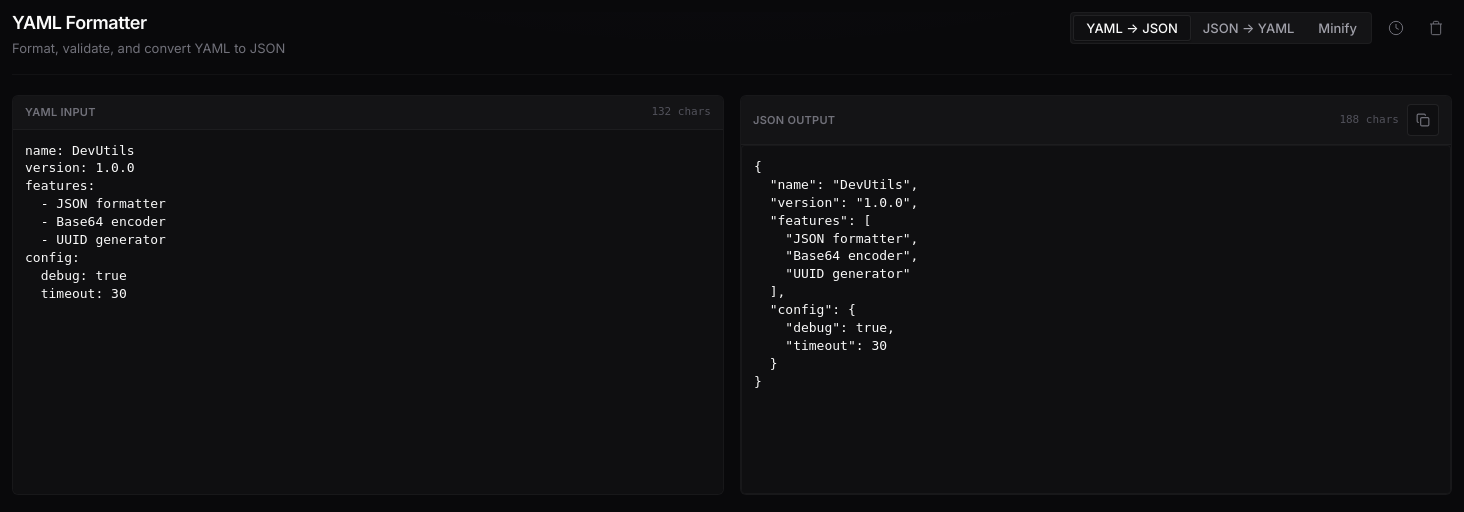
Scenario: YamlTool › should clear content when clear button clicked
// First input some content
Replace the text in the text box with class "editor-textarea" with "test: value" at (368, 312), box top-left (13, 130), bottom-right (723, 494)
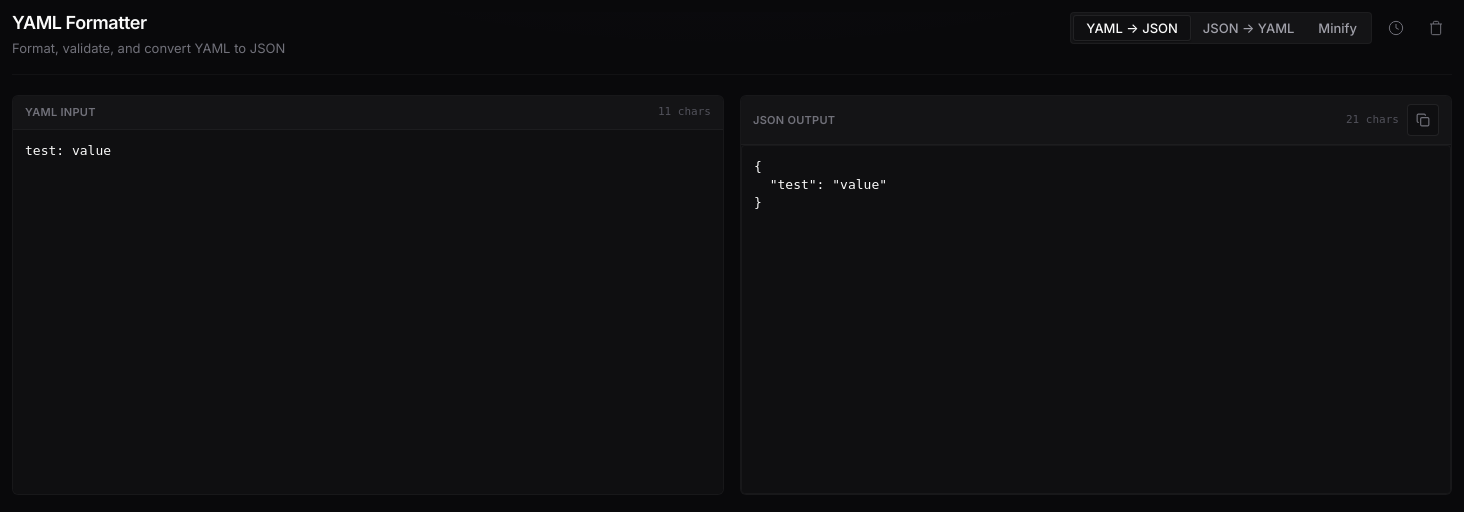
Click the button named "Clear all content".
click(1436, 28)  # box top-left (1420, 12), bottom-right (1452, 44)
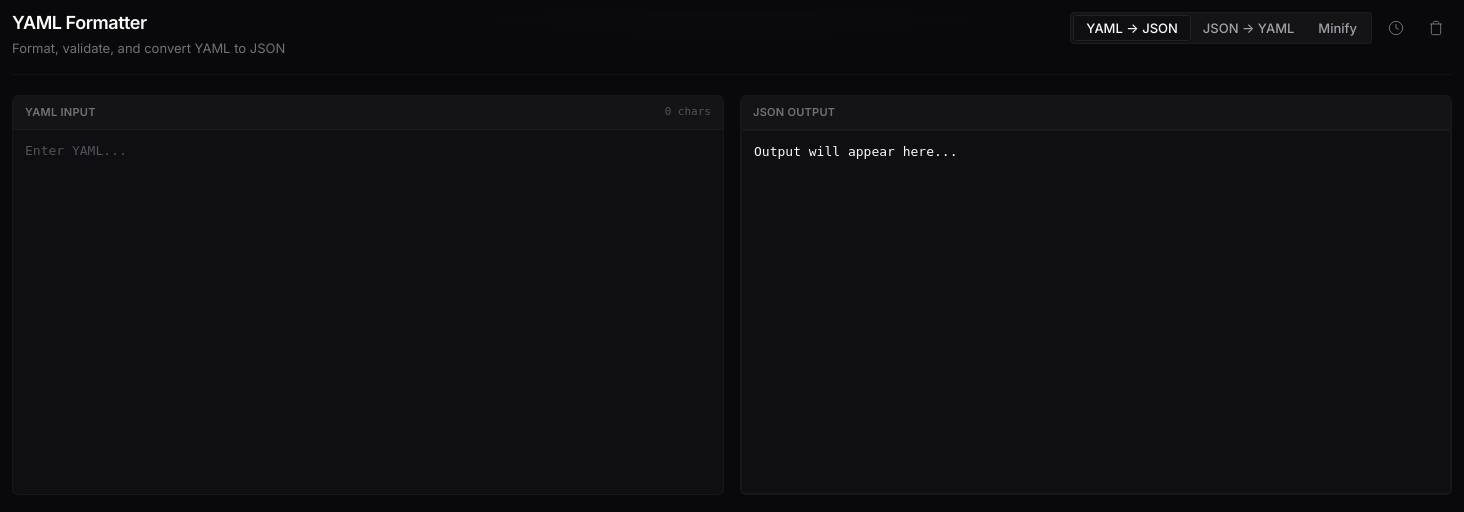
expect the text box with class "editor-textarea" is empty: met, box top-left (13, 130), bottom-right (723, 494)
